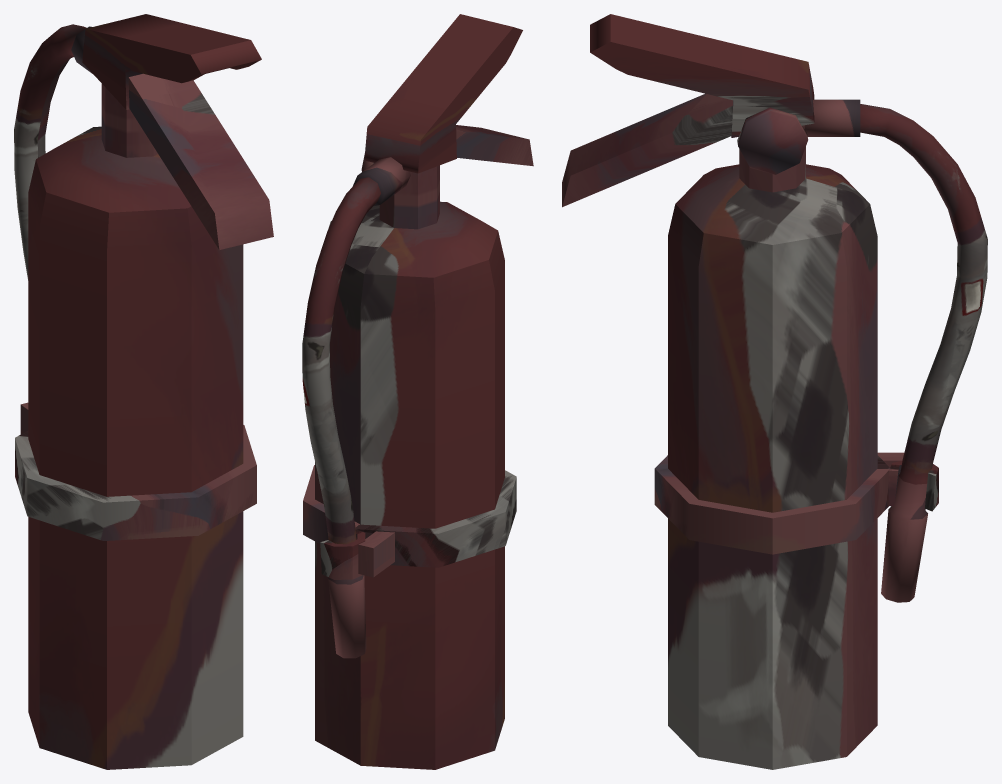
Rendered from fire extinguisher.fbx.
The picture shows the model from 3 angles, left to right: view 1: azimuth 30°, elevation 25°; view 2: azimuth 150°, elevation 25°; view 3: azimuth 270°, elevation 25°; orthographic projection. The views are drawn at different scales.
Parts seen in each view (by area): view 1: fire extinguisher; view 2: fire extinguisher; view 3: fire extinguisher.
Boxes of the visible parts, x1,y1,x2,y2 form: fire extinguisher: (14,14,273,769); fire extinguisher: (302,14,533,769); fire extinguisher: (562,14,987,769).
Bounding box in the file's own units: 148 × 481 × 266.
